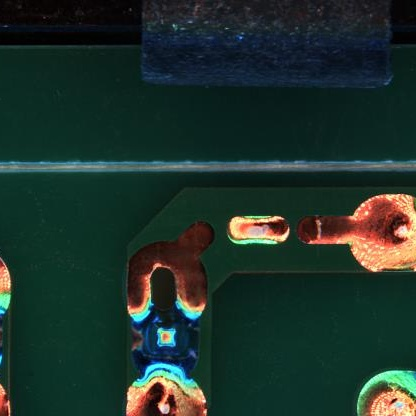spot: (129, 307, 202, 374)
